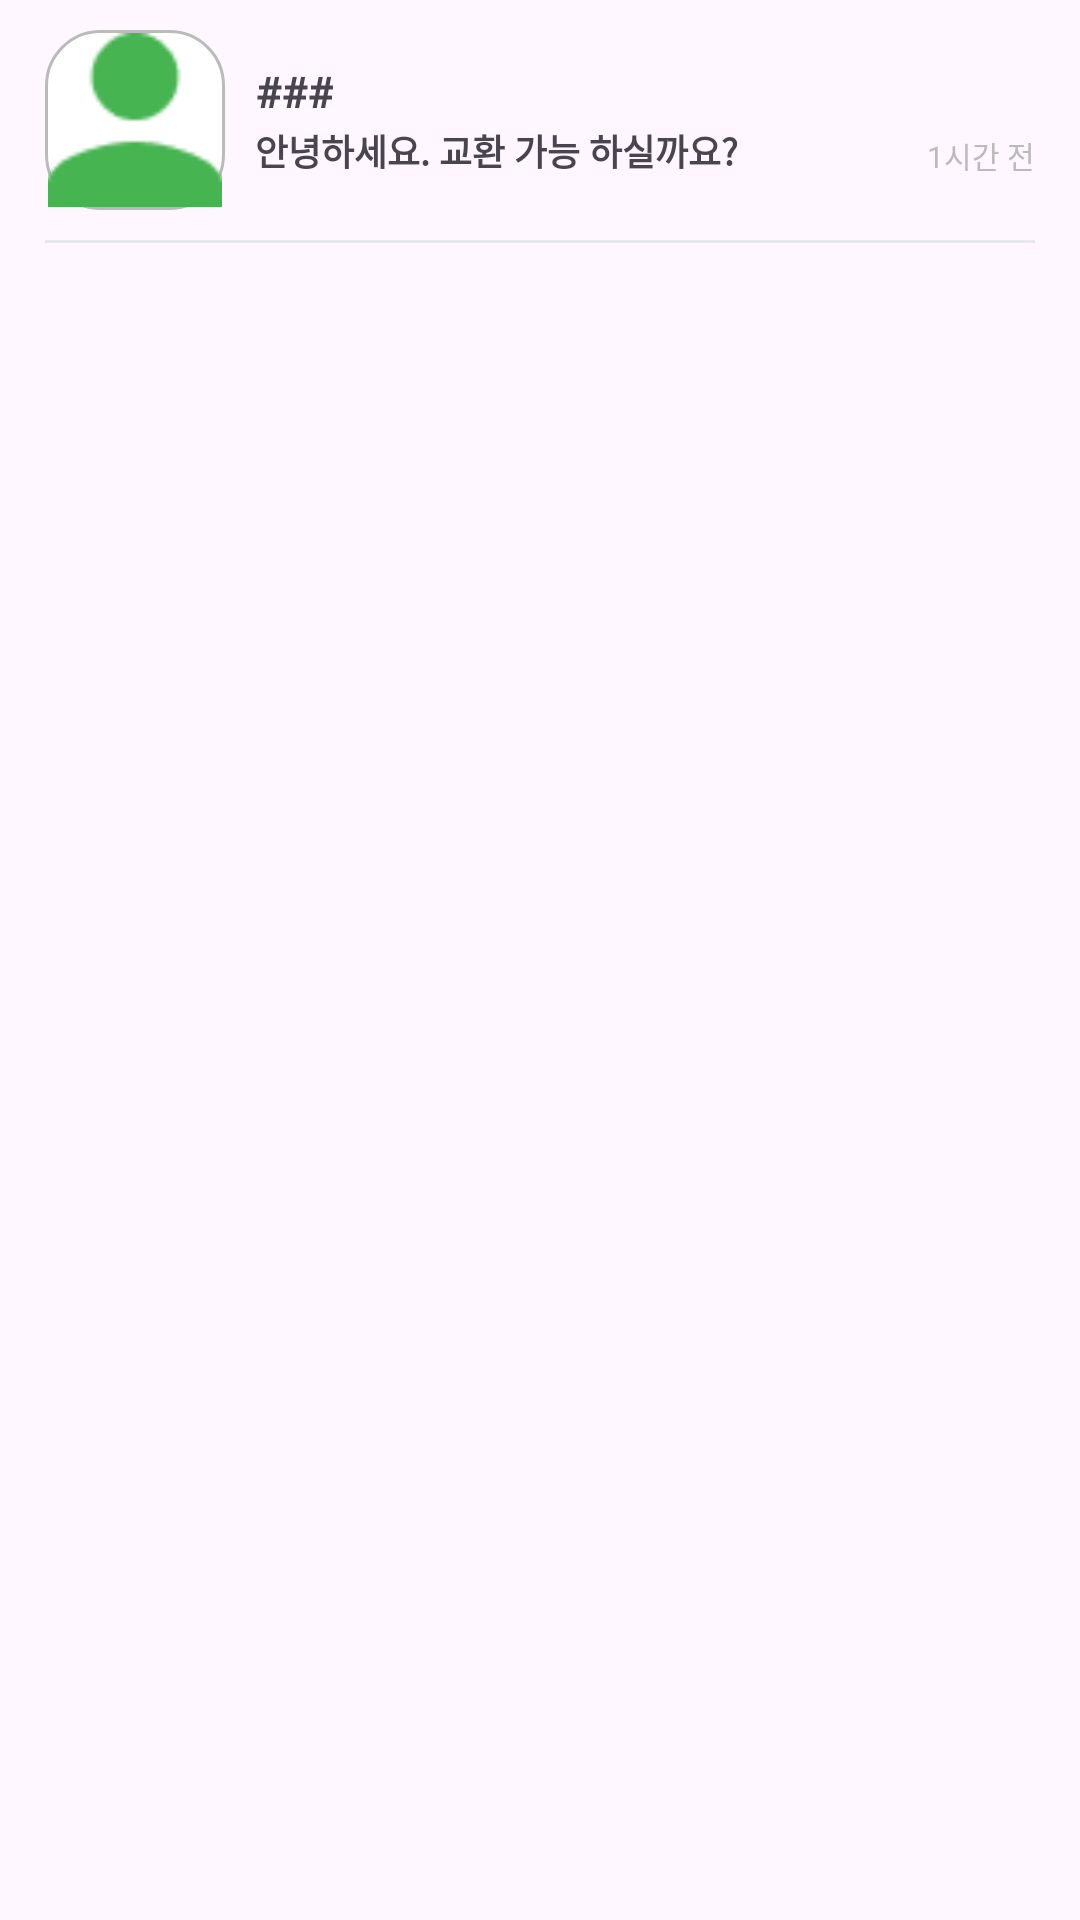

Point at icon controls on the screen. Image size 1080 x 1920, points as (x=x, y=y).
mypage: (x=135, y=120)
